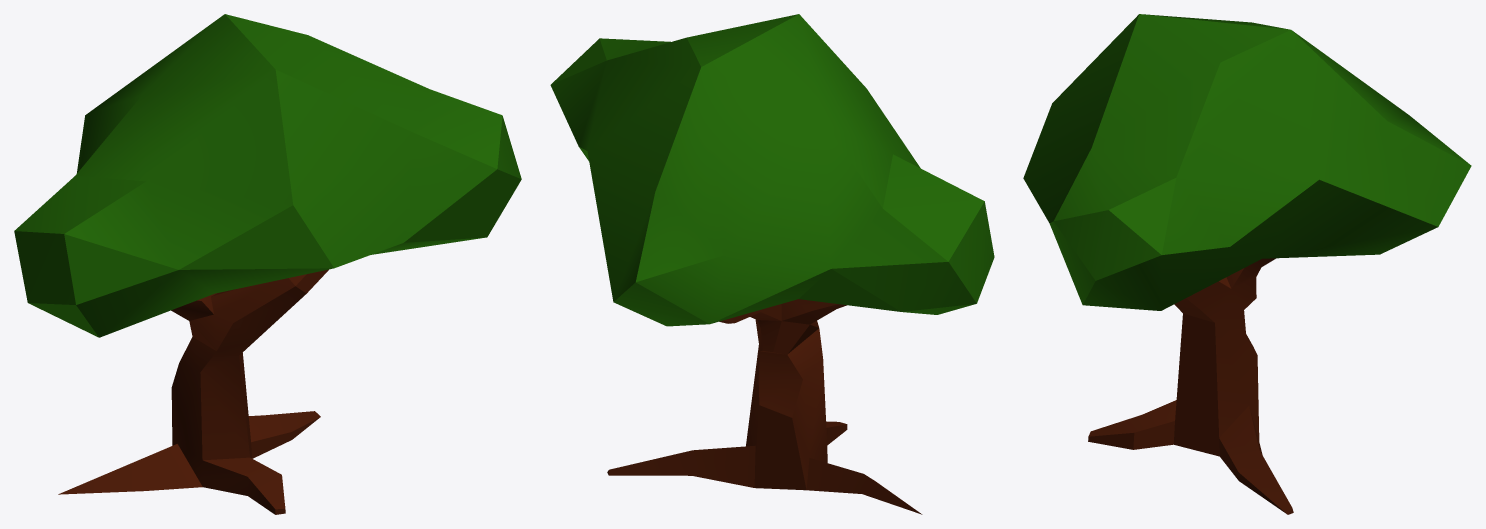
Rendered from TreeWithOutSwing.fbx.
3 renders of one model, left to right at view 1: azimuth 30°, elevation 25°; view 2: azimuth 150°, elevation 25°; view 3: azimuth 270°, elevation 25°, orthographic. The views are drawn at different scales.
Visible parts, largest first — view 1: TreeWithOutSwing; view 2: TreeWithOutSwing; view 3: TreeWithOutSwing.
Boxes of the visible parts, bbox=[...] form: TreeWithOutSwing: bbox=[14, 14, 521, 514]; TreeWithOutSwing: bbox=[550, 14, 994, 514]; TreeWithOutSwing: bbox=[1023, 14, 1471, 514].
Bounding box in the file's own units: 776 × 712 × 655.
